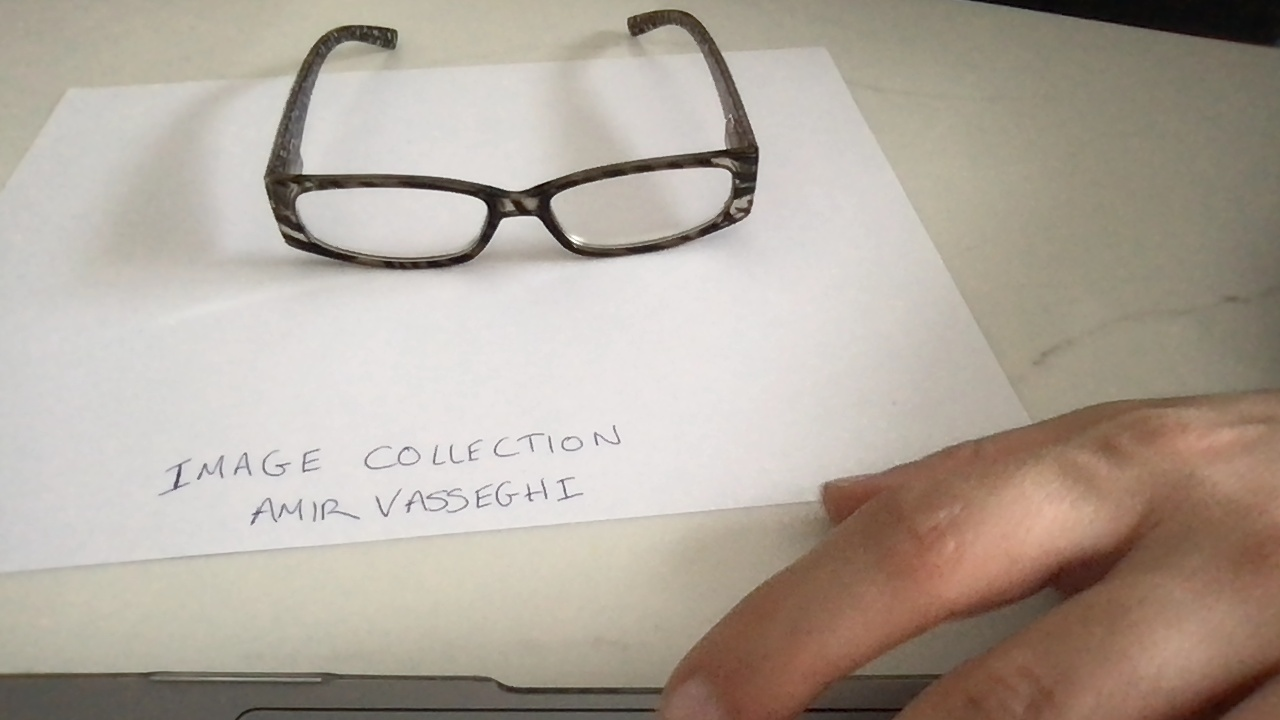glasses: (264, 9, 760, 271)
